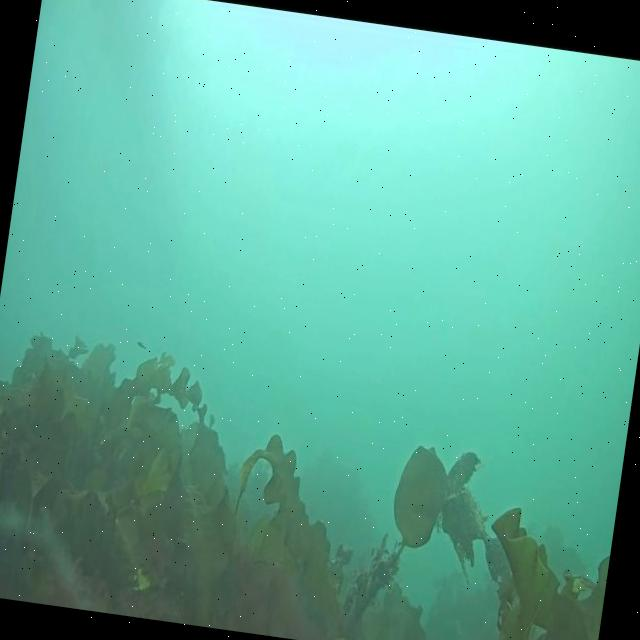fish: (136, 340, 149, 351)
